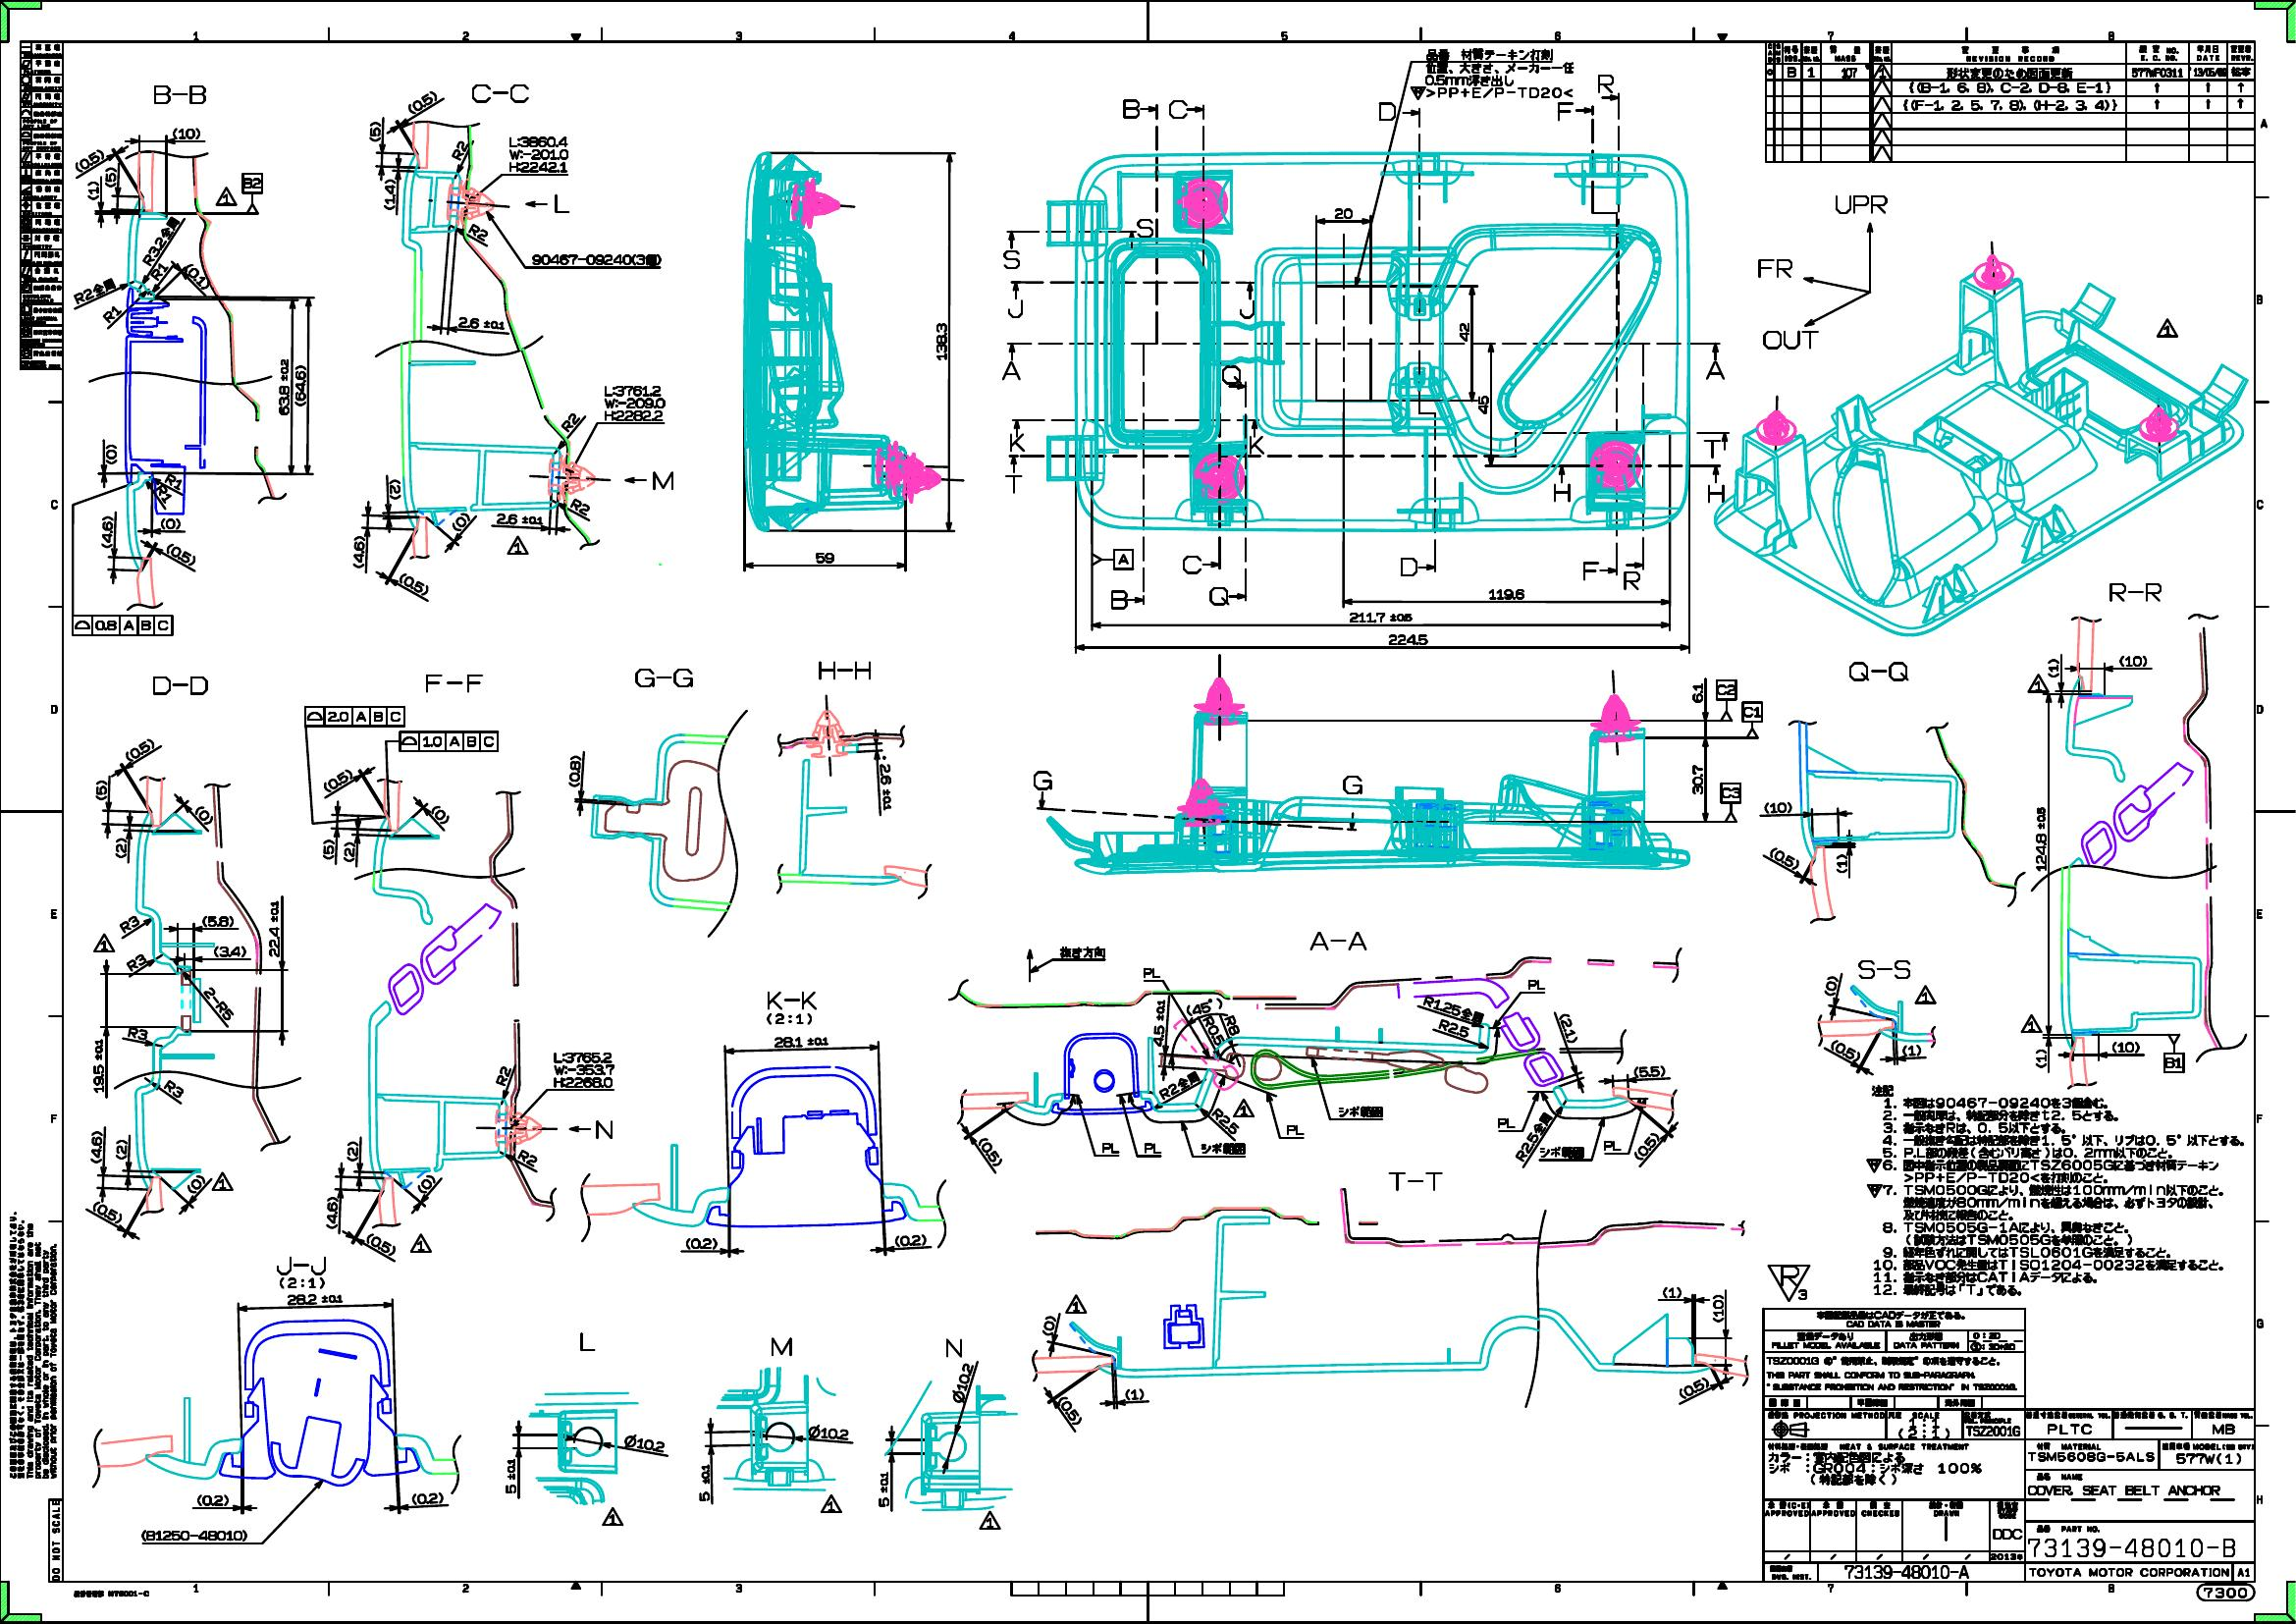anntotation_text: (1866, 1083, 2245, 1295), (7, 1211, 60, 1480), (1425, 47, 1576, 74), (1409, 86, 1574, 98), (72, 615, 172, 634), (304, 707, 404, 726), (399, 731, 497, 750), (766, 990, 817, 1025), (1765, 1264, 1811, 1302), (276, 1257, 327, 1290), (531, 253, 662, 265), (2108, 580, 2162, 605), (1309, 928, 1367, 951), (141, 1529, 248, 1541), (423, 673, 483, 694), (471, 83, 529, 104), (632, 668, 694, 687), (1760, 330, 1820, 350), (1848, 661, 1908, 680), (1834, 193, 1888, 214), (153, 83, 207, 104), (1388, 1171, 1442, 1192), (153, 675, 207, 696), (817, 659, 871, 680), (1857, 960, 1911, 979), (2196, 1584, 2256, 1601), (1757, 258, 1794, 279), (132, 236, 188, 248), (72, 1589, 149, 1598), (1058, 944, 1105, 958), (72, 283, 116, 297), (1539, 1146, 1585, 1158), (1337, 1106, 1383, 1118), (1200, 1142, 1245, 1155), (1158, 1079, 1202, 1091), (1031, 768, 1054, 791), (2155, 316, 2178, 337), (506, 534, 529, 555), (214, 186, 237, 207), (409, 1232, 432, 1253), (211, 1171, 234, 1192), (2025, 673, 2050, 692), (241, 172, 262, 193), (1720, 782, 1741, 803), (1741, 701, 1762, 722), (652, 471, 675, 490), (769, 1336, 792, 1355), (601, 1506, 624, 1526), (978, 1510, 1001, 1529), (2020, 1014, 2043, 1033), (1913, 984, 1936, 1004), (1065, 1294, 1087, 1313), (1000, 360, 1022, 380), (1340, 775, 1363, 794), (91, 933, 114, 953), (1168, 98, 1188, 120), (1221, 364, 1242, 383), (820, 1494, 841, 1513), (1209, 587, 1230, 606), (1182, 554, 1202, 575), (1114, 548, 1133, 569), (1233, 1098, 1254, 1118), (1702, 439, 1722, 459), (1706, 360, 1725, 380), (1005, 299, 1024, 318), (2164, 1053, 2184, 1072), (1716, 680, 1736, 700), (1123, 98, 1140, 120), (945, 1338, 963, 1359), (1110, 589, 1128, 610), (553, 192, 569, 214), (1708, 483, 1725, 503), (1556, 102, 1574, 121), (1597, 74, 1614, 93), (1379, 102, 1397, 121), (1137, 218, 1154, 237), (1003, 250, 1021, 269), (578, 1332, 596, 1352), (596, 1120, 613, 1139), (1005, 475, 1022, 494), (1553, 483, 1570, 503), (1623, 571, 1641, 591), (1400, 557, 1418, 576), (1238, 299, 1254, 320), (1008, 432, 1024, 453), (1249, 434, 1265, 455), (1583, 561, 1599, 580), (569, 499, 590, 513), (126, 1026, 148, 1040), (516, 1151, 539, 1164), (453, 139, 466, 160), (119, 917, 141, 930), (163, 1083, 184, 1095), (497, 1065, 509, 1086), (1142, 967, 1161, 979), (1100, 1141, 1119, 1153), (102, 308, 121, 320), (155, 487, 174, 499), (163, 475, 183, 487), (126, 956, 146, 968), (1527, 977, 1542, 991), (469, 225, 487, 237), (1497, 1118, 1516, 1128), (560, 417, 580, 427), (149, 265, 169, 276), (1602, 1141, 1621, 1151), (1286, 1125, 1305, 1135), (1144, 1142, 1161, 1153)
dimension_text: (550, 1049, 613, 1088), (604, 383, 666, 422), (508, 135, 569, 172), (1425, 74, 1514, 86), (2034, 807, 2047, 872), (1421, 1002, 1484, 1014), (278, 357, 290, 415), (773, 1035, 829, 1048), (1527, 1109, 1539, 1165), (1349, 612, 1414, 622), (808, 1424, 850, 1439), (457, 316, 504, 330), (954, 1362, 970, 1403), (624, 1434, 664, 1450), (269, 900, 279, 958), (1184, 998, 1223, 1014), (286, 1294, 344, 1304), (1154, 998, 1166, 1048), (93, 1037, 104, 1093), (495, 513, 545, 524), (880, 763, 891, 810), (199, 997, 239, 1009), (323, 1195, 337, 1230), (697, 1462, 710, 1501), (1767, 851, 1801, 865), (213, 944, 246, 958), (364, 1237, 397, 1251), (973, 1144, 1007, 1158), (1676, 1380, 1709, 1394), (197, 1494, 230, 1508), (397, 576, 430, 591), (504, 1457, 516, 1494), (295, 364, 306, 406), (892, 1234, 928, 1246), (1632, 1065, 1667, 1077), (411, 1492, 446, 1504), (1388, 633, 1428, 643), (123, 743, 156, 756), (90, 1206, 123, 1218), (683, 1237, 717, 1250), (1209, 1114, 1242, 1127), (1207, 1014, 1219, 1048), (1562, 1011, 1574, 1044), (163, 548, 197, 561), (72, 155, 105, 167), (406, 95, 439, 107), (353, 534, 365, 568), (936, 322, 947, 360), (90, 1130, 102, 1162), (1439, 1021, 1470, 1033), (1054, 1404, 1086, 1417), (878, 1471, 889, 1508), (383, 179, 395, 211), (1488, 589, 1525, 599), (1829, 1044, 1860, 1056), (172, 127, 202, 139), (569, 754, 580, 787), (102, 515, 112, 548), (1764, 801, 1792, 814), (2112, 1040, 2140, 1053), (430, 807, 451, 823), (321, 775, 353, 786), (202, 916, 234, 926), (1641, 1130, 1651, 1162), (181, 271, 213, 281), (1692, 765, 1702, 794), (321, 838, 336, 859), (344, 1141, 358, 1162), (1713, 1294, 1723, 1322), (1124, 1387, 1145, 1401), (388, 478, 402, 499), (1333, 206, 1354, 220), (2119, 656, 2147, 666), (1823, 975, 1838, 997), (1660, 1287, 1683, 1299), (193, 808, 214, 821), (114, 837, 126, 858), (114, 1139, 126, 1160), (1226, 1014, 1238, 1035), (1042, 1315, 1054, 1336), (160, 517, 181, 529), (104, 165, 116, 186), (1901, 1044, 1922, 1056), (1836, 852, 1848, 874), (455, 510, 466, 533), (343, 842, 355, 861), (95, 780, 107, 800), (186, 1178, 206, 1190), (420, 1174, 432, 1193), (86, 181, 98, 200), (369, 121, 381, 141), (815, 552, 834, 564), (1458, 322, 1470, 341), (2047, 657, 2059, 677), (2034, 1049, 2047, 1069), (1692, 682, 1702, 703), (1477, 395, 1490, 413), (105, 445, 116, 464)
object: (1045, 149, 1692, 533), (1713, 239, 2249, 634), (1045, 652, 1690, 875), (1036, 1186, 1750, 1380), (957, 956, 1674, 1125), (740, 149, 963, 531), (399, 121, 594, 557), (365, 779, 553, 1227), (2059, 615, 2222, 1086), (121, 149, 274, 608), (135, 775, 279, 1211), (98, 1318, 460, 1487), (581, 1065, 947, 1227), (1797, 719, 2017, 919), (776, 692, 929, 886), (590, 733, 731, 910), (884, 1378, 1017, 1510), (715, 1366, 838, 1490), (527, 1392, 639, 1504), (1816, 984, 1934, 1042)
title_block: (1760, 1308, 2256, 1582), (1765, 40, 2254, 162), (19, 42, 61, 367)
